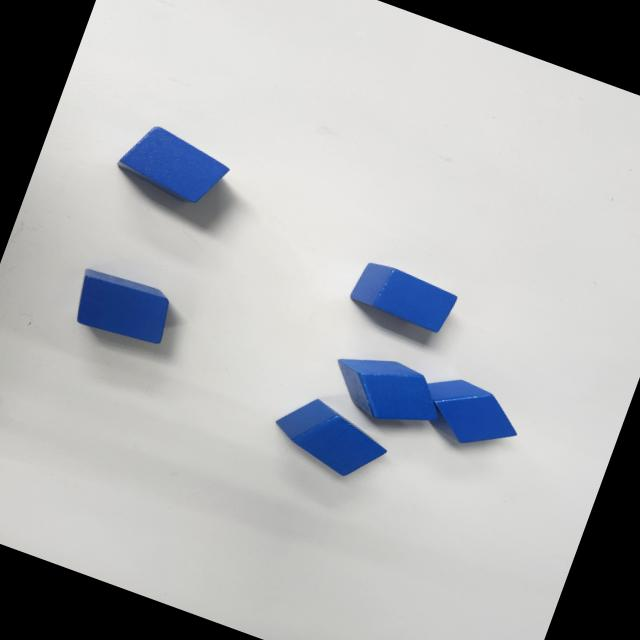blue: (264, 388, 396, 488), (321, 340, 452, 440), (112, 116, 236, 213), (410, 366, 530, 462), (66, 263, 178, 352), (348, 256, 460, 338)
